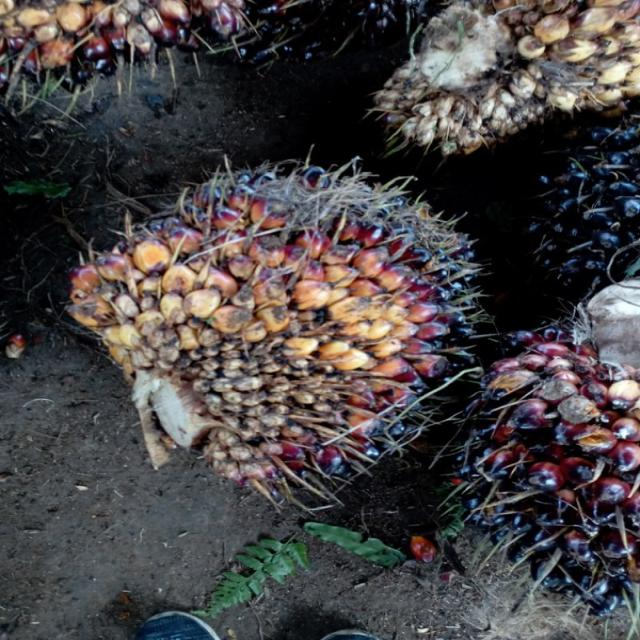fraksi 1: (49, 127, 499, 514)
